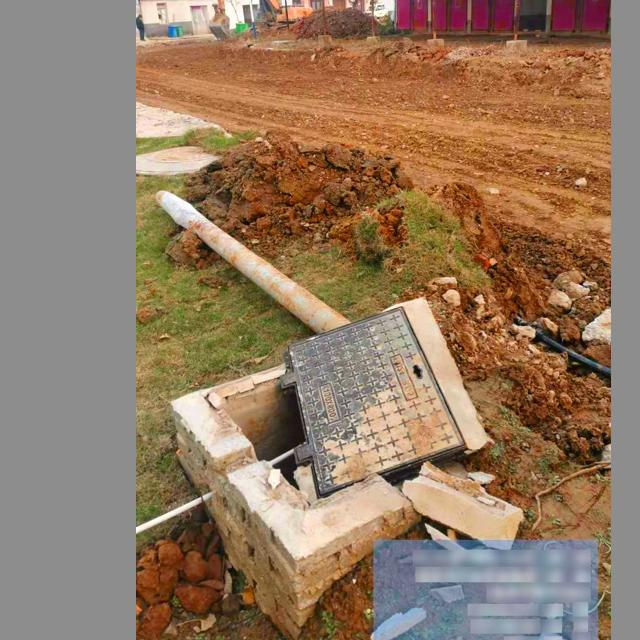circle: (192, 294, 513, 541)
